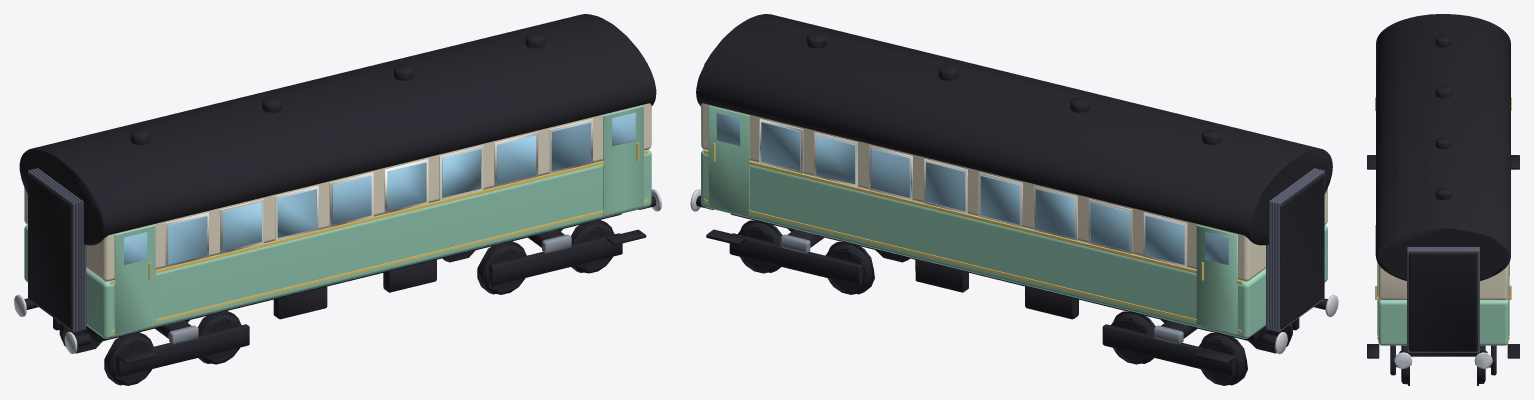
The model's file is carriage.glb.
3 views of the same model, side by side, from view 1: azimuth 30°, elevation 25°; view 2: azimuth 150°, elevation 25°; view 3: azimuth 270°, elevation 25° (orthographic). The views are drawn at different scales.
Visible parts, largest first — view 1: carriage.003, cw3.4-0.8-1.003 (×4); view 2: carriage.003, cw3.4-0.003 (×4); view 3: carriage.003, cw3.4-0.8-1.003, cw3.4-0.003.
Part boxes in pixels (x1=…): carriage.003: x1=14, y1=14, x2=661, y2=376; cw3.4-0.8-1.003 (×4): x1=104, y1=220, x2=614, y2=385; carriage.003: x1=690, y1=14, x2=1338, y2=376; cw3.4-0.003 (×4): x1=738, y1=220, x2=1247, y2=385; carriage.003: x1=1367, y1=14, x2=1519, y2=375; cw3.4-0.8-1.003: x1=1396, y1=345, x2=1411, y2=385; cw3.4-0.003: x1=1475, y1=345, x2=1490, y2=385.
Size of the model in its own units: 10.7 by 3.94 by 3.05.
1 material, 1 textured.
